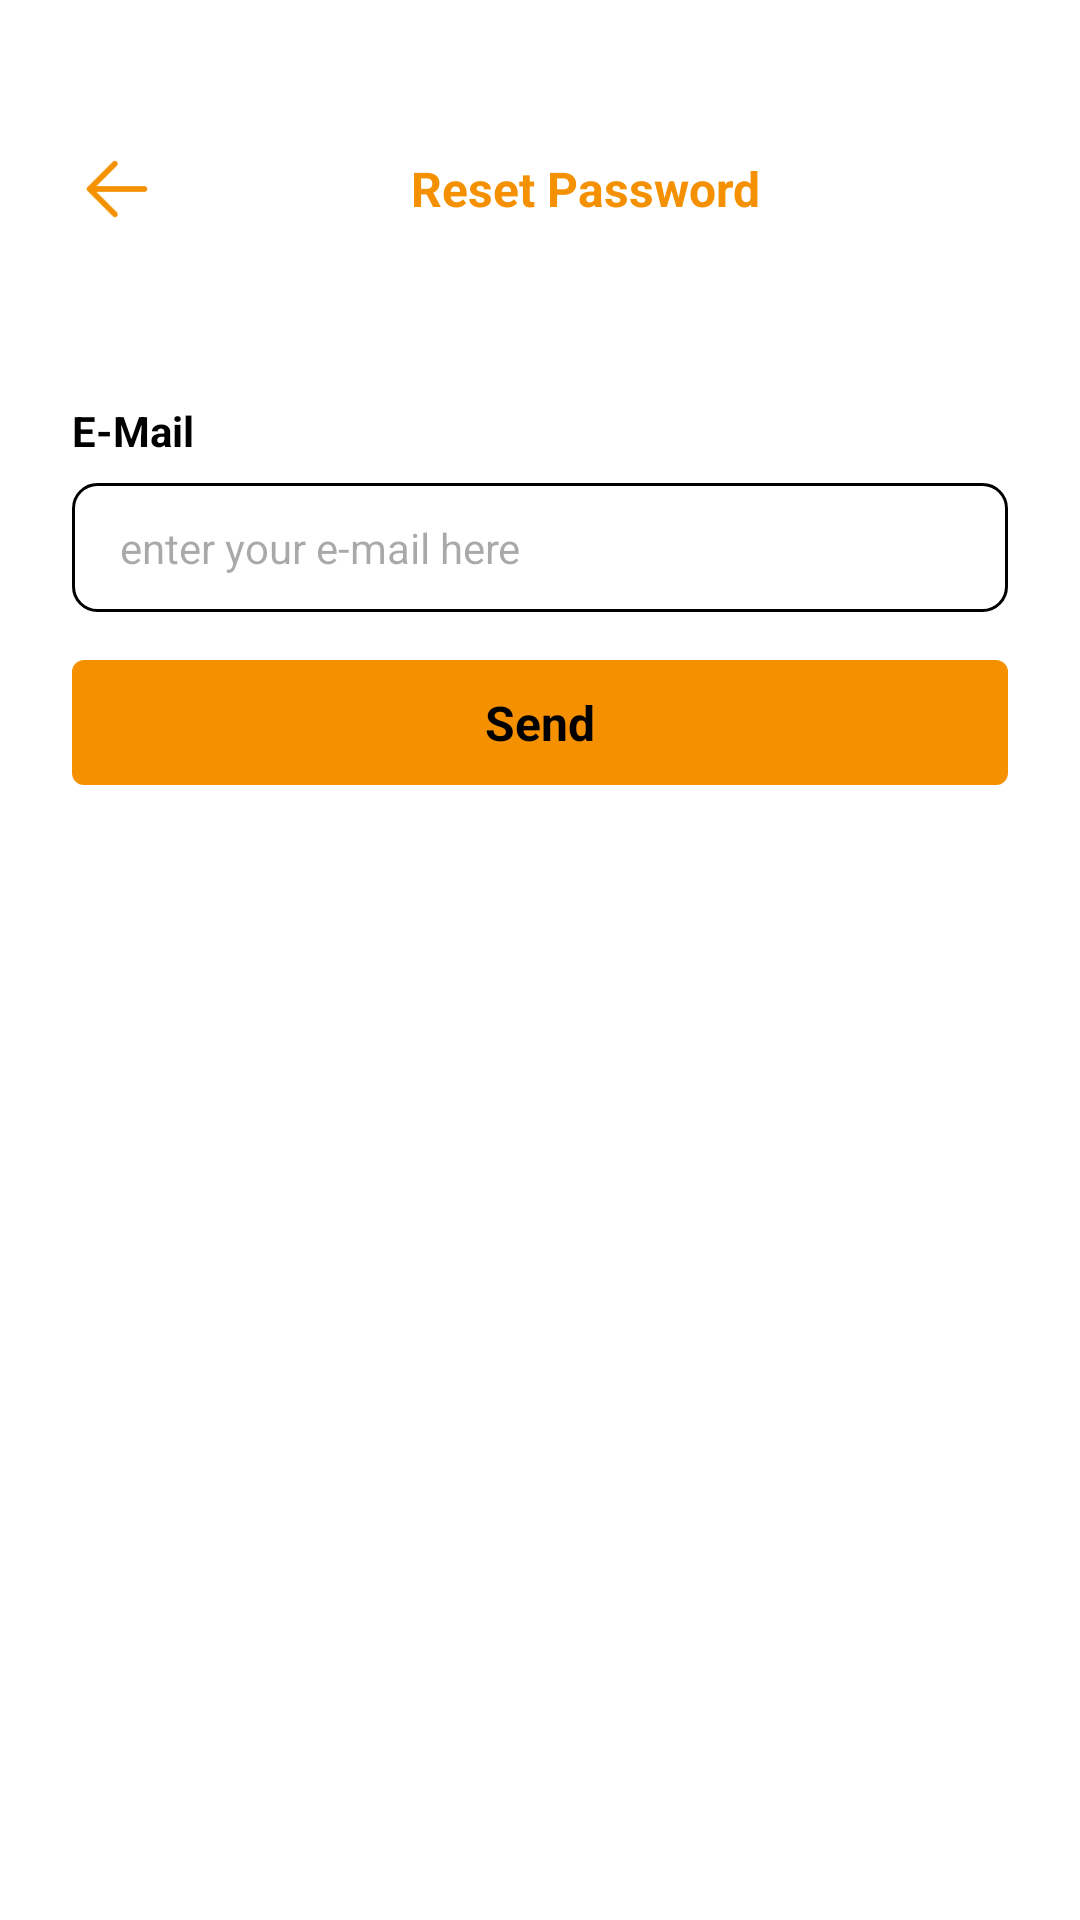

Icons on this 1080w x 1920h Android screen, each with the point to tap as (x,y):
back arrow: (117,189)
